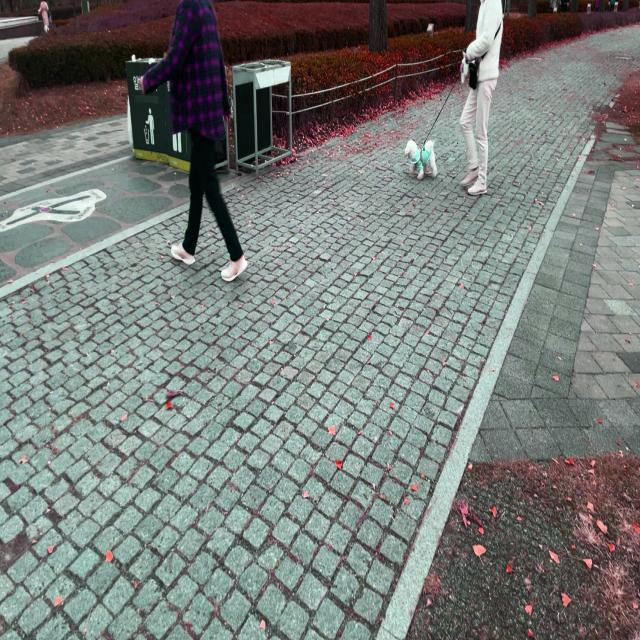Leashed_Dog: (404, 49, 486, 180)
